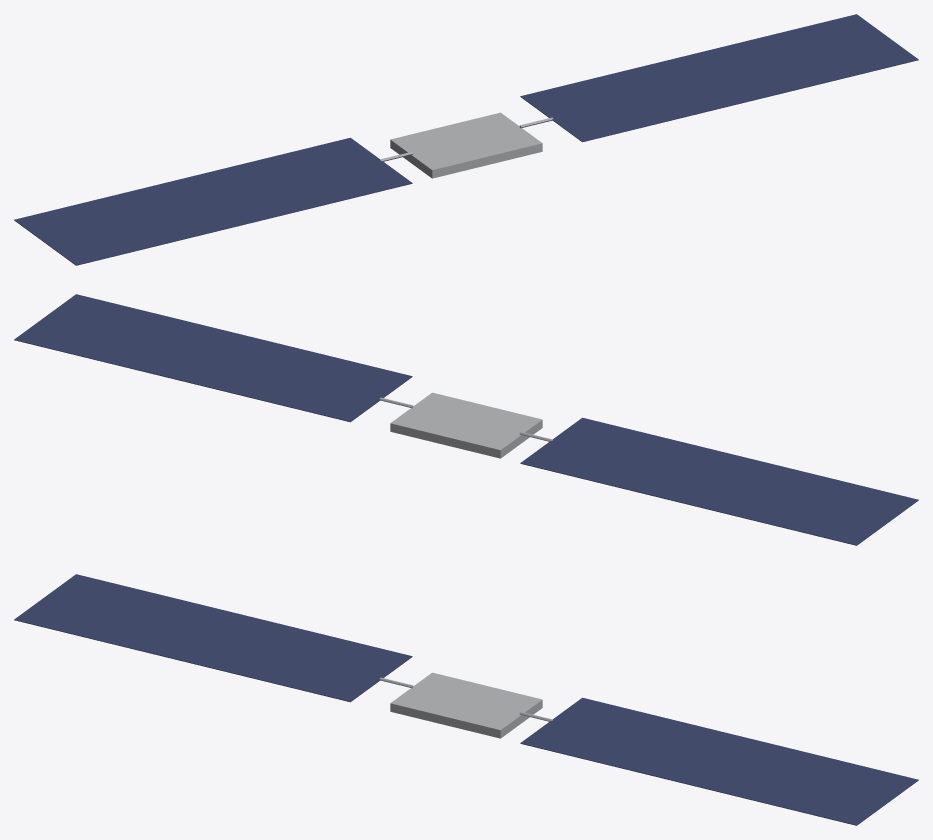
File: starlink.glb
3 renders of one model, top to bottom at view 1: azimuth 30°, elevation 25°; view 2: azimuth 150°, elevation 25°; view 3: azimuth 330°, elevation 25°, orthographic.
Parts seen in each view (by area): view 1: starlink; view 2: starlink; view 3: starlink.
Boxes of the visible parts, x1,y1,x2,y2 form: starlink: (14, 14, 918, 265); starlink: (14, 294, 918, 545); starlink: (14, 574, 918, 825).
Bounding box in the file's own units: 2 × 0.0277 × 0.2556.
